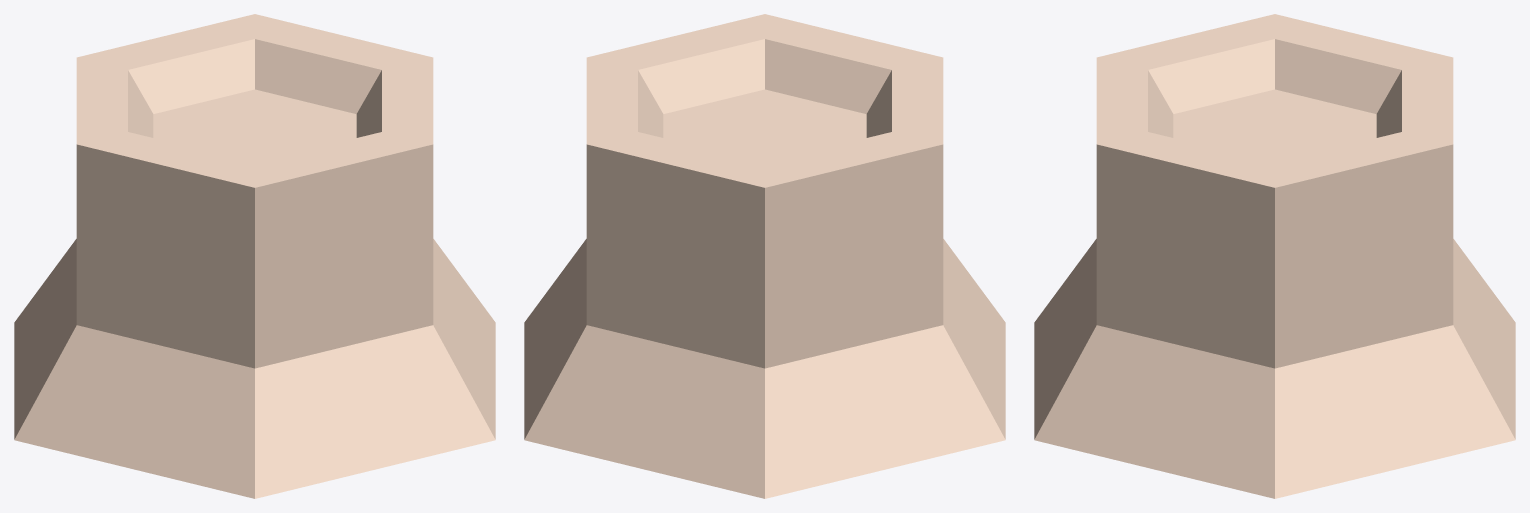
The model's file is treeStump_round.fbx.
3 renders of one model, left to right at view 1: azimuth 30°, elevation 25°; view 2: azimuth 150°, elevation 25°; view 3: azimuth 270°, elevation 25°, orthographic.
Visible parts, largest first — view 1: treeStump_round; view 2: treeStump_round; view 3: treeStump_round.
Part boxes in pixels (left/top/right/bottom): treeStump_round: left=14, top=14, right=495, bottom=498; treeStump_round: left=524, top=14, right=1005, bottom=498; treeStump_round: left=1034, top=14, right=1515, bottom=498.
Bounding box in the file's own units: 111 × 61.95 × 96.39.
